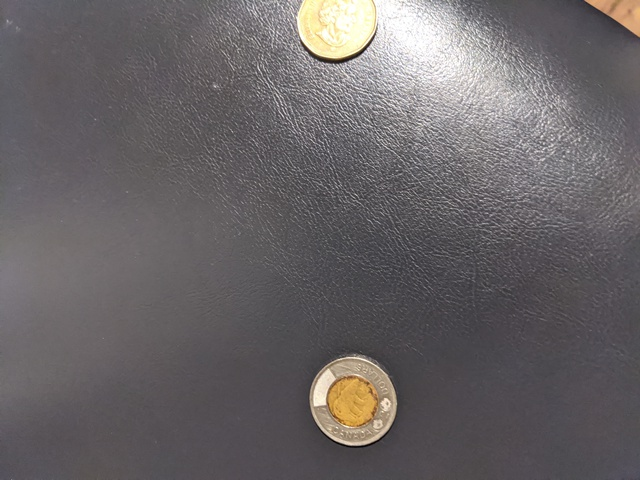loonie: (284, 14, 388, 67)
twonie: (304, 354, 404, 444)
